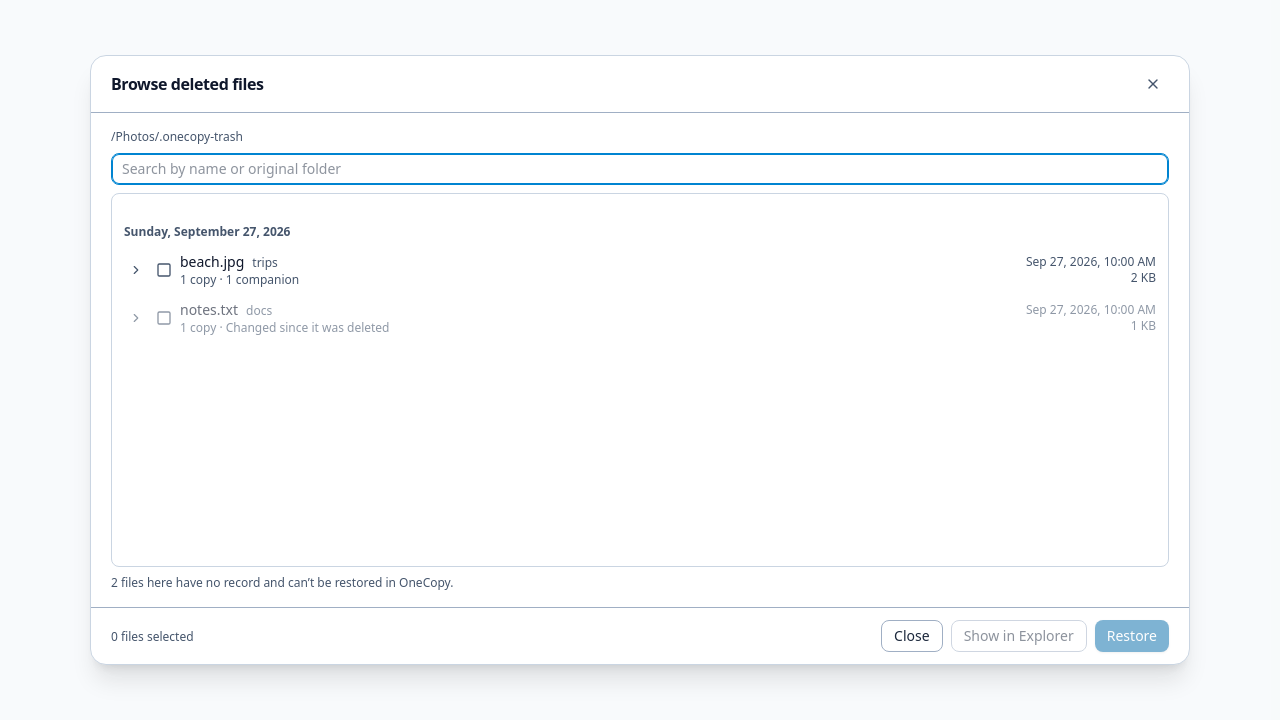
Restore › says when a companion comes back without the name its restored main now has
Focus the list: x=640, y=380 top-left (111, 193), bottom-right (1169, 567)
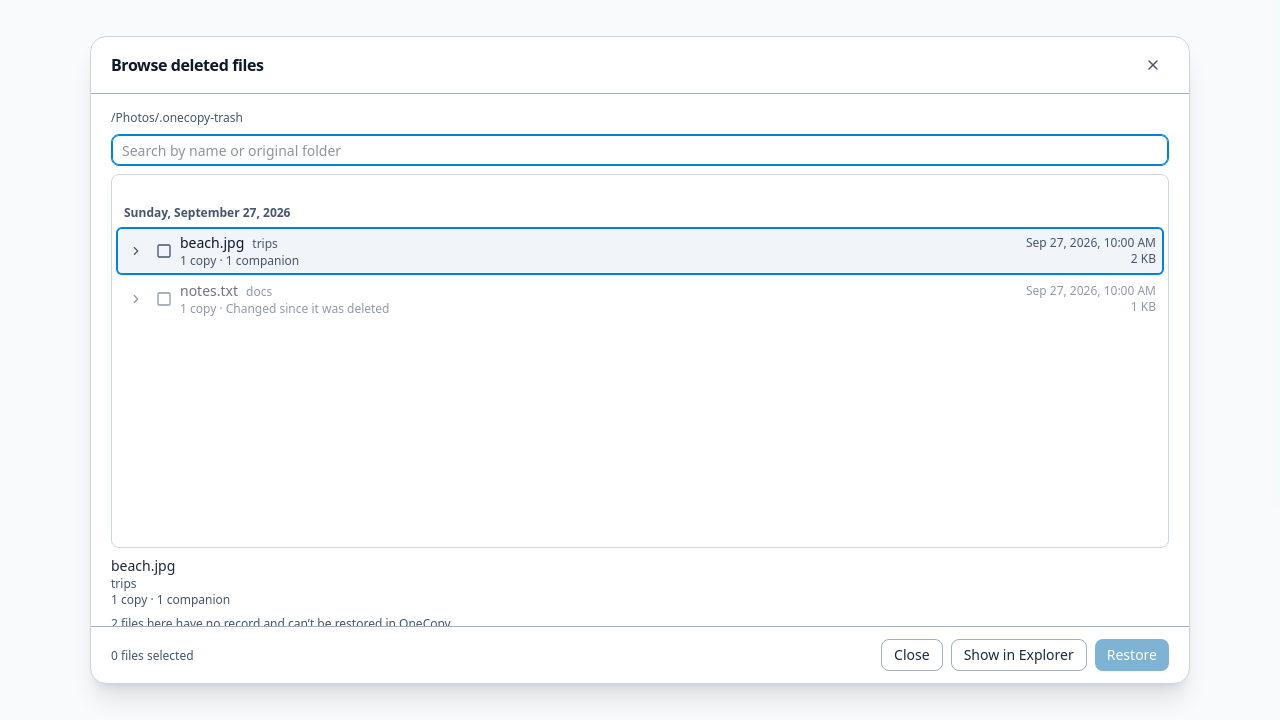
Press Space in the list, box top-left (111, 174), bottom-right (1169, 548)
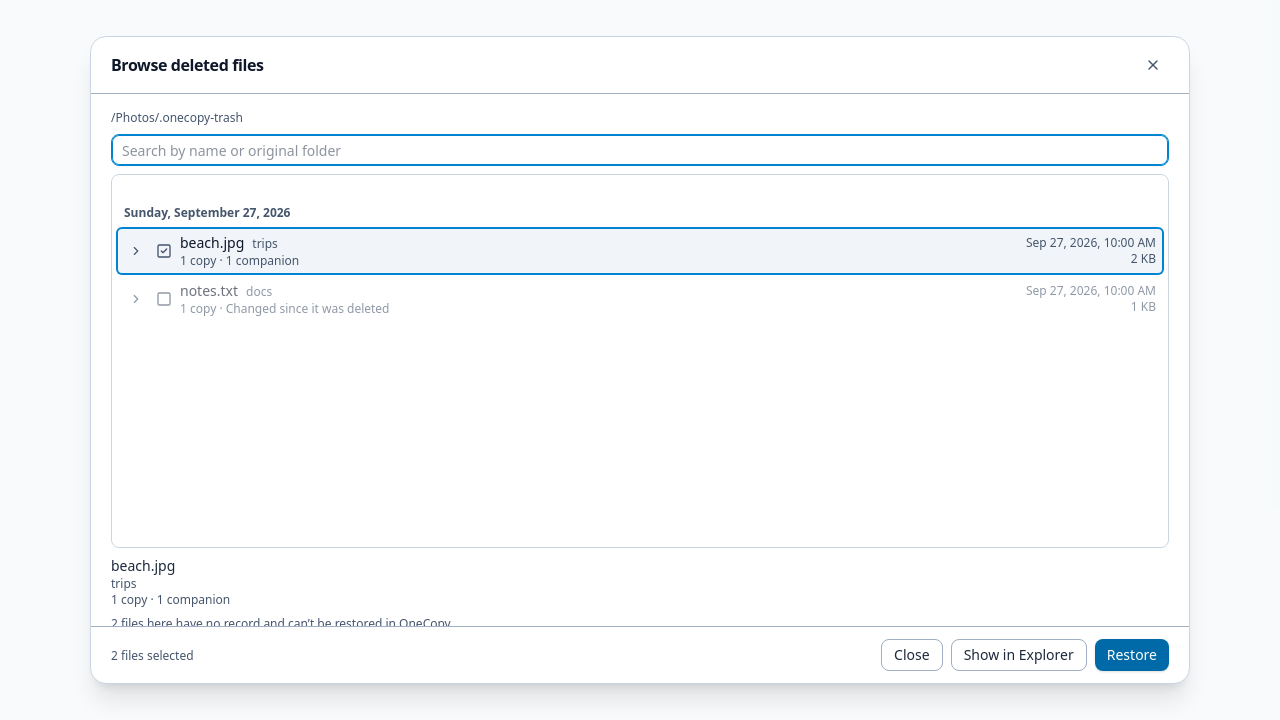
Click the button "Restore": x=1132, y=655 top-left (1095, 639), bottom-right (1169, 671)
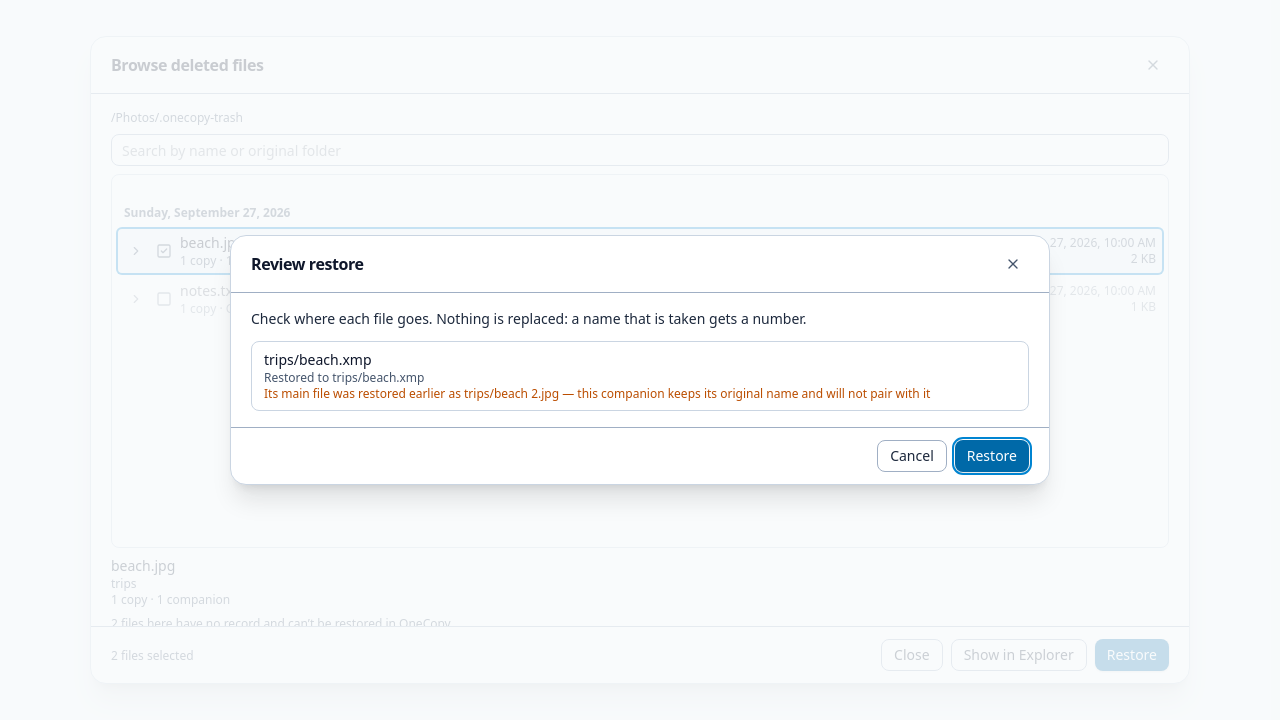
Result: the text "Restored to trips/beach.xmp" is shown at top-left (264, 369), bottom-right (424, 386)
Result: the text "Its main file was restored earlier as trips/beach 2.jpg — this companion keeps its original name and will not pair with it" is shown at top-left (264, 385), bottom-right (930, 402)
